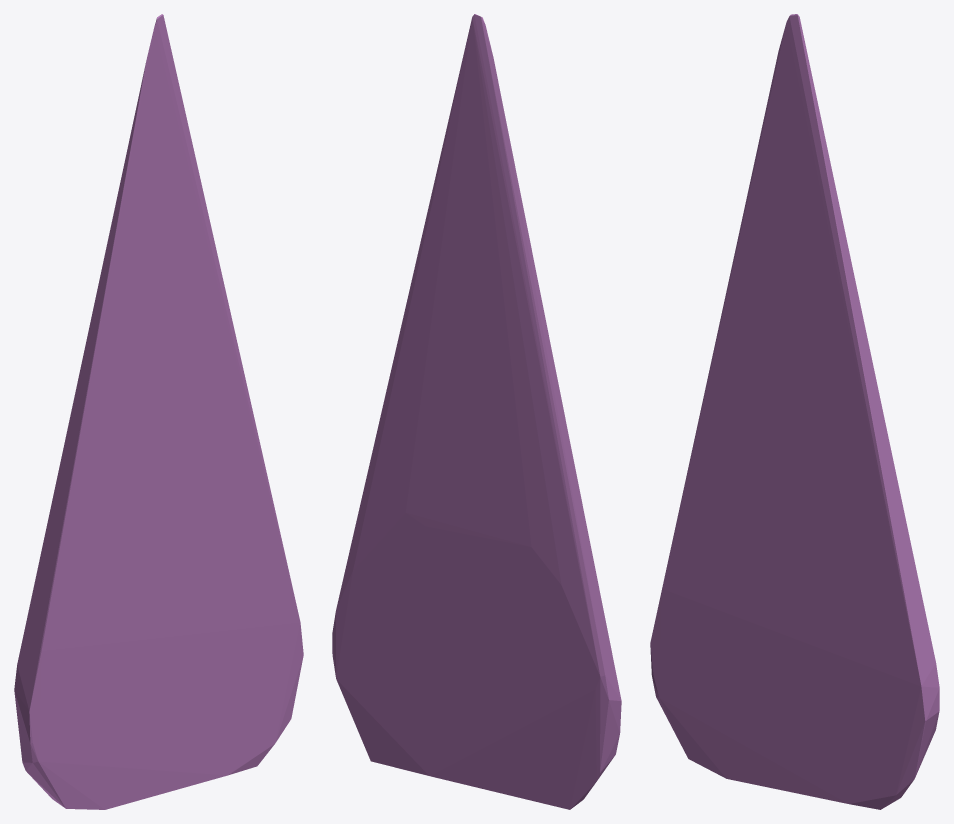
File: utensils_scissors_b01.glb
The picture shows the model from 3 angles, left to right: view 1: azimuth 30°, elevation 25°; view 2: azimuth 150°, elevation 25°; view 3: azimuth 330°, elevation 25°; orthographic projection.
Visible parts, largest first — view 1: geometry_0; view 2: geometry_0; view 3: geometry_0.
Boxes of the visible parts, bbox=[...] form: geometry_0: bbox=[14, 14, 303, 809]; geometry_0: bbox=[332, 14, 621, 809]; geometry_0: bbox=[650, 14, 939, 809].
Bounding box in the file's own units: 0.1789 × 0.4794 × 0.0174.
